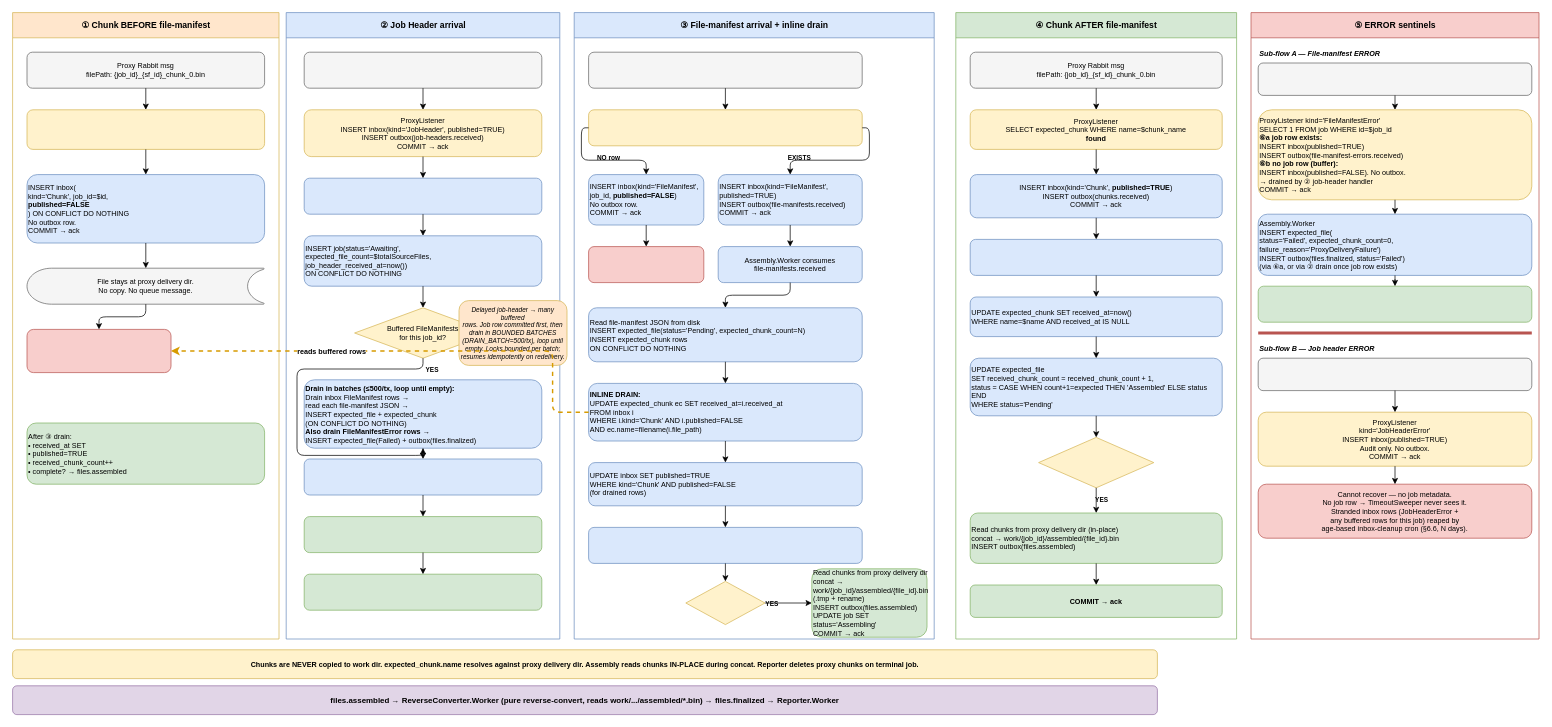
Some shapes in this 1552 by 727 pixel diagram are drawn without their labels. Here are the shapes that lost their labels. From the top down, the centre of each, then its label:
At (422,69): "Proxy Rabbit msg filePath: {job_id}.job.json".
At (725,69): "Proxy Rabbit msg filePath: {job_id}_{sf_id}.file.json".
At (1394,78): "Proxy: {job_id}_{sf_id}.file.ERROR.txt".
At (145,129): "ProxyListener SELECT expected_chunk WHERE name=$chunk_name 0 rows".
At (725,127): "ProxyListener SELECT job WHERE id=$job_id".
At (422,195): "Assembly.Worker consumes job-headers.received".
At (646,264): "BUFFERED waiting for job header...".
At (1095,257): "Assembly.Worker consumes chunks.received".
At (1394,303): "Reporter handles normally finalized_file_count++".
At (98,351): "BUFFERED published=FALSE waiting for file-manifest...".
At (1394,374): "Proxy: {job_id}.job.ERROR.txt".
At (422,476): "Drain buffered Chunks matching expected_chunks".
At (1096,462): "Status flipped to Assembled?".
At (422,534): "Concat complete files INSERT outbox(files.assembled)".
At (725,545): "Recompute received_chunk_count flip status='Assembled' if complete".
At (422,591): "UPDATE job SET status='Assembling' WHERE status='Awaiting'".
At (725,603): "Any file Assembled?".
